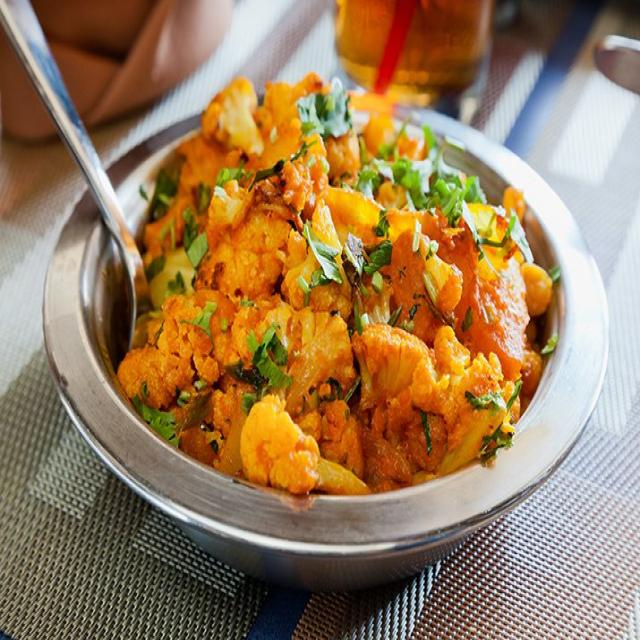cauliflower: (118, 74, 559, 492)
